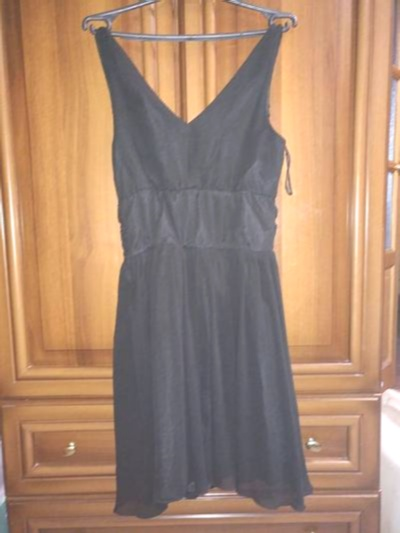Dress: (49, 3, 346, 525)
